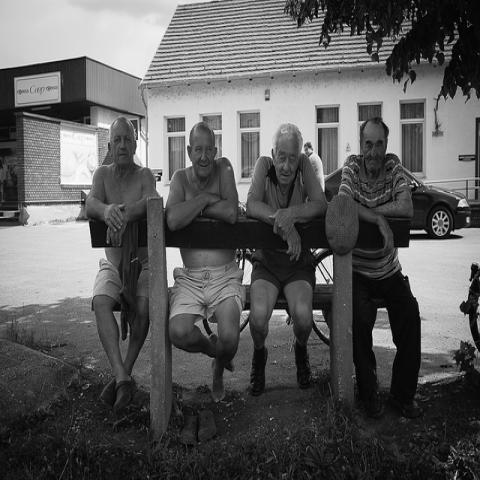car: (324, 164, 471, 238)
motorcycle: (458, 255, 480, 360)
